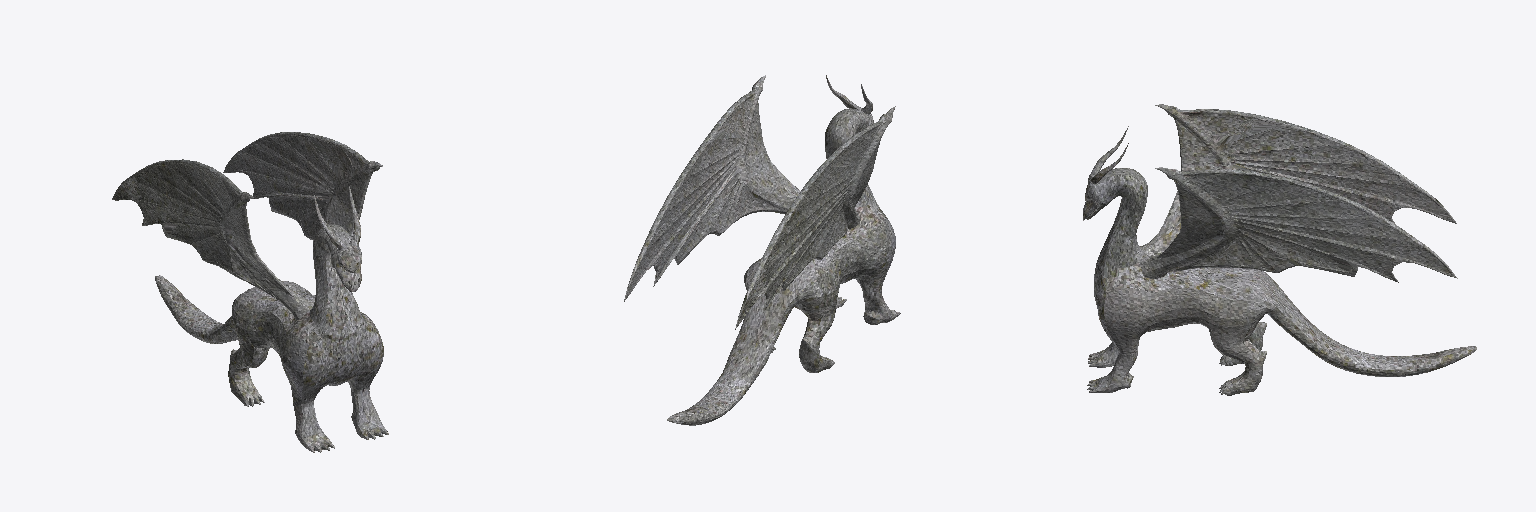
3 renders of one model, left to right at view 1: azimuth 30°, elevation 25°; view 2: azimuth 150°, elevation 25°; view 3: azimuth 270°, elevation 25°, orthographic.
Parts seen in each view (by area): view 1: Box01; view 2: Box01; view 3: Box01.
Part boxes in pixels (x1,y1,x2,y2): Box01: (112,132,388,452); Box01: (624,75,900,425); Box01: (1083,104,1476,395).
Size of the model in its own units: 1.99 by 3.36 by 4.91.
1 materials, 1 textured.